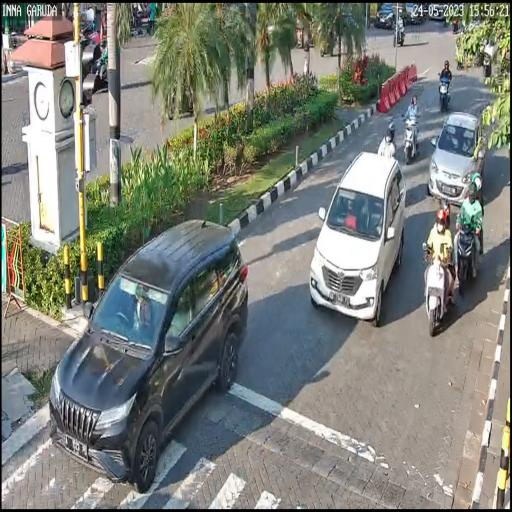mobil: (49, 220, 250, 492), (310, 151, 406, 326), (427, 114, 487, 206)
motor: (422, 240, 457, 338), (456, 214, 484, 296), (401, 114, 421, 166), (437, 70, 452, 113)
